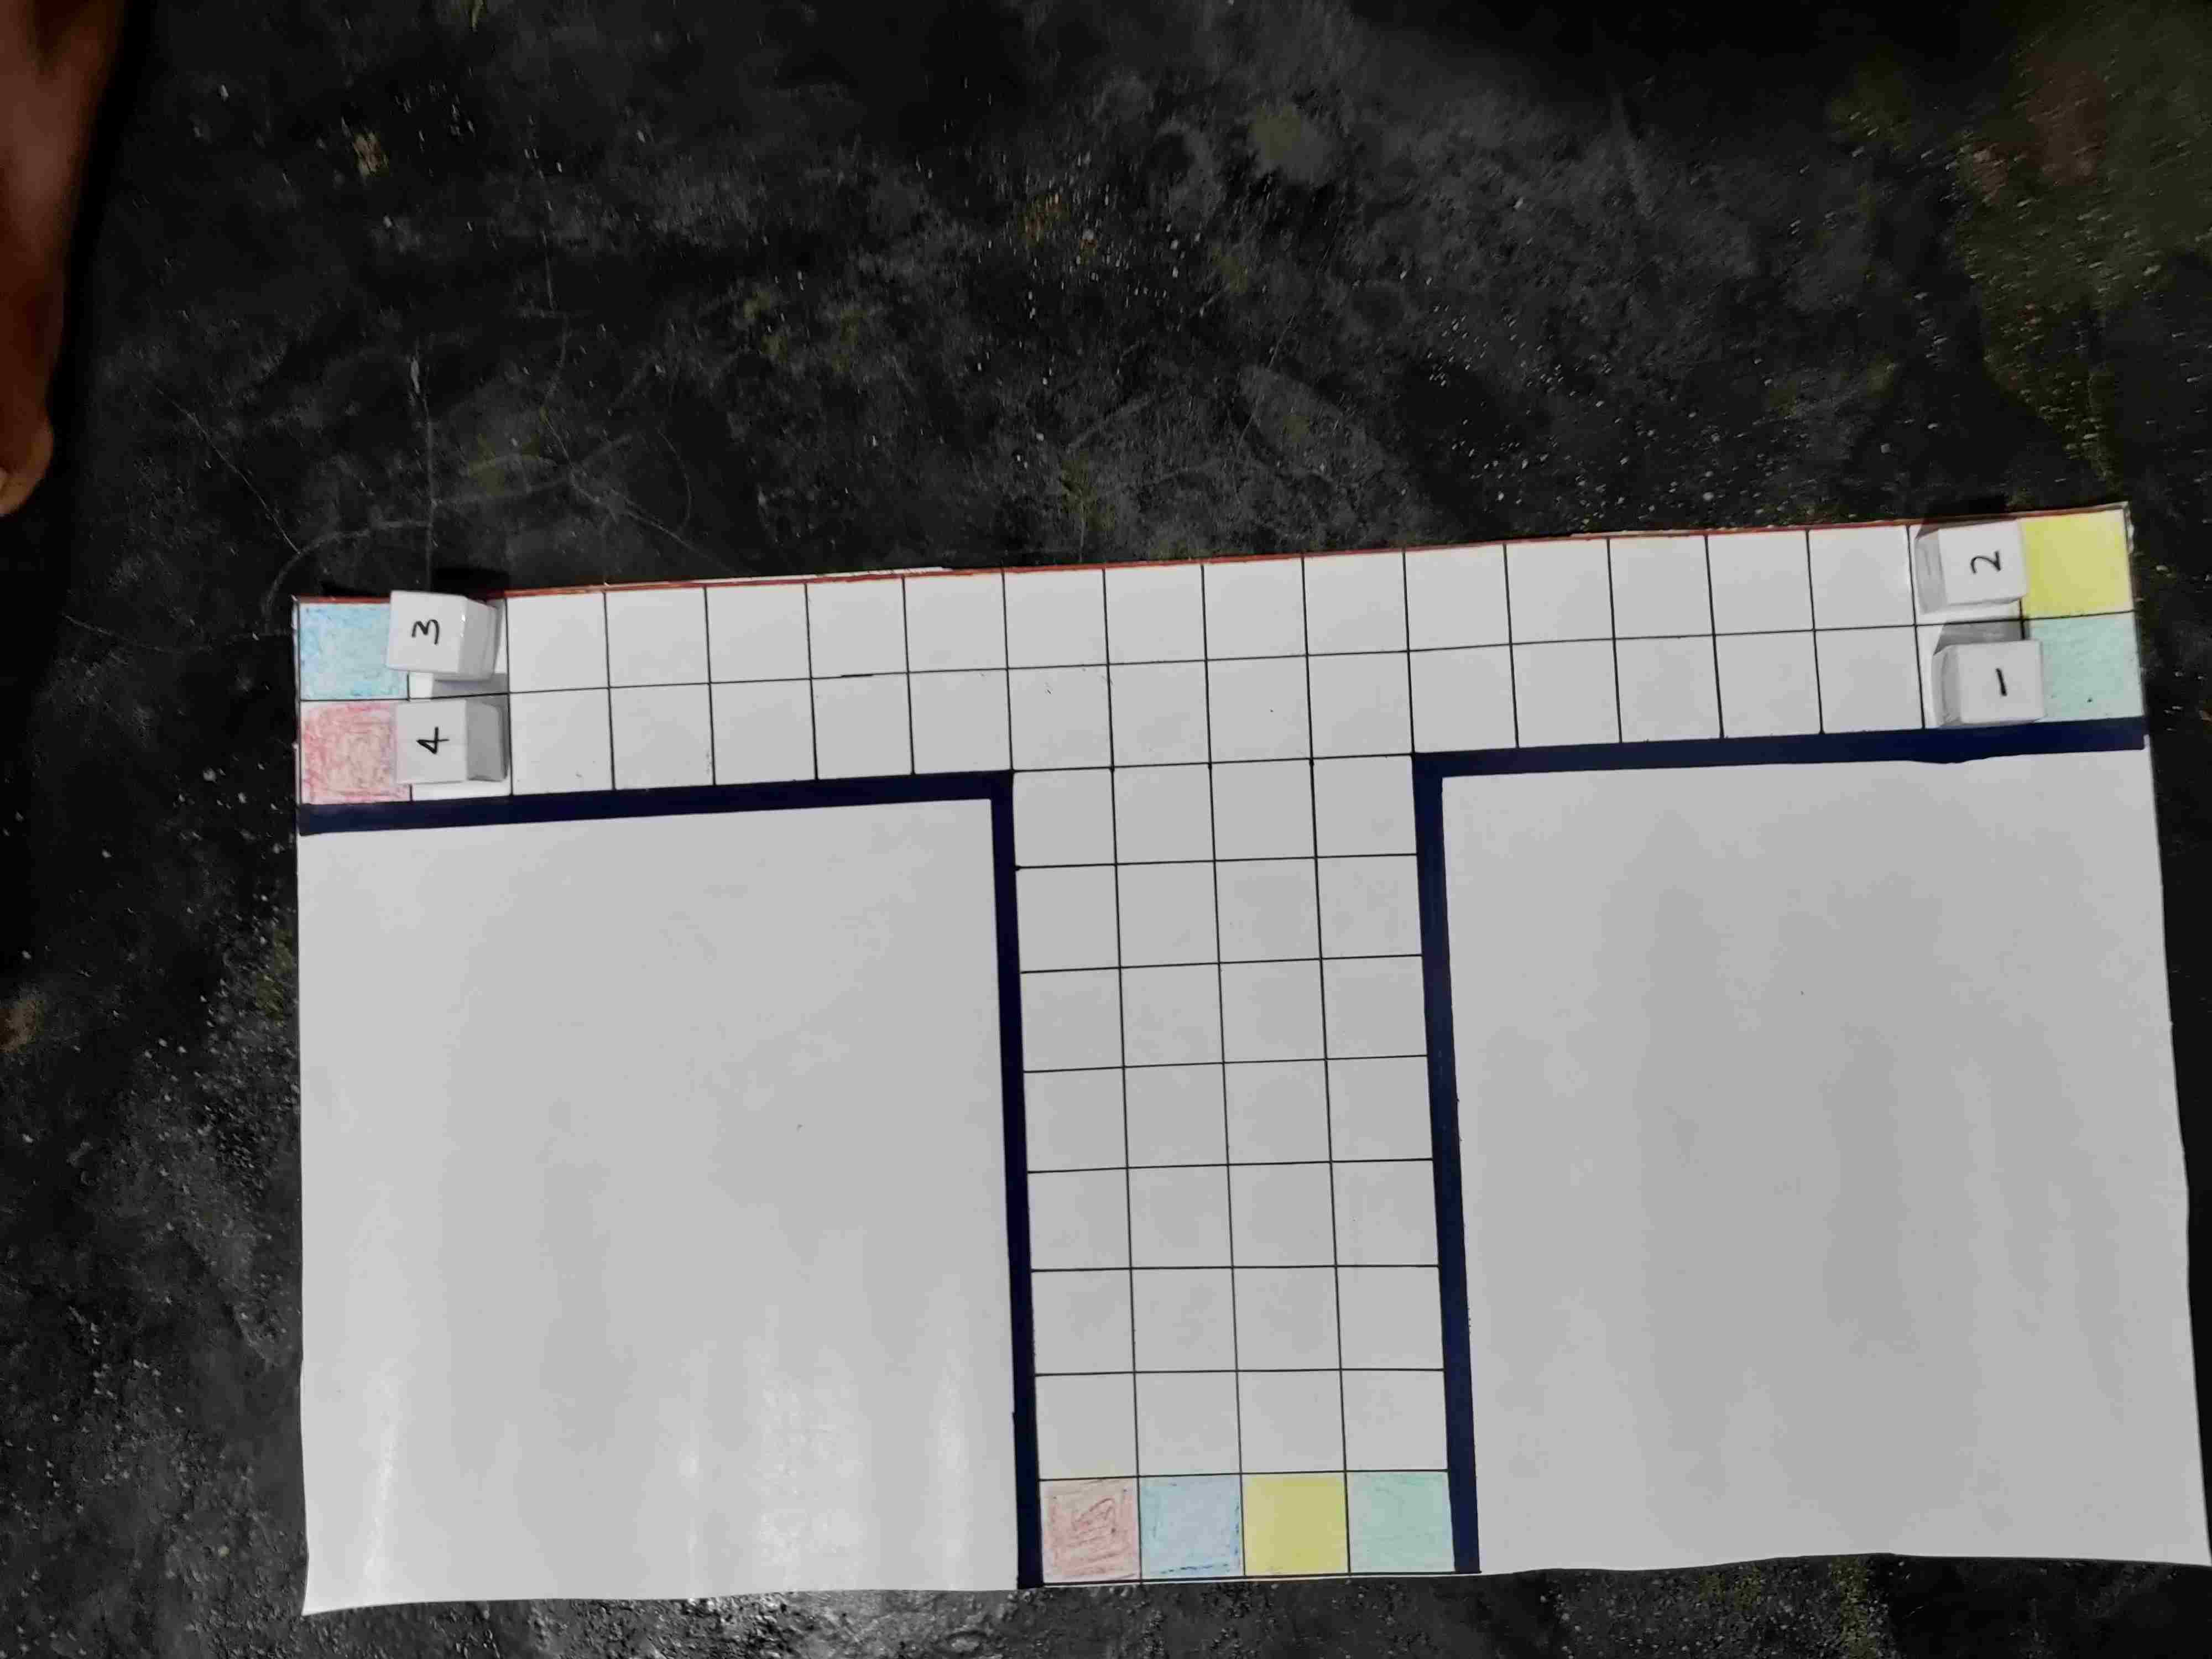arena: (298, 500, 2155, 1593)
bot: (1932, 521, 2029, 603), (1947, 643, 2041, 727), (388, 587, 470, 671), (390, 702, 472, 784)
